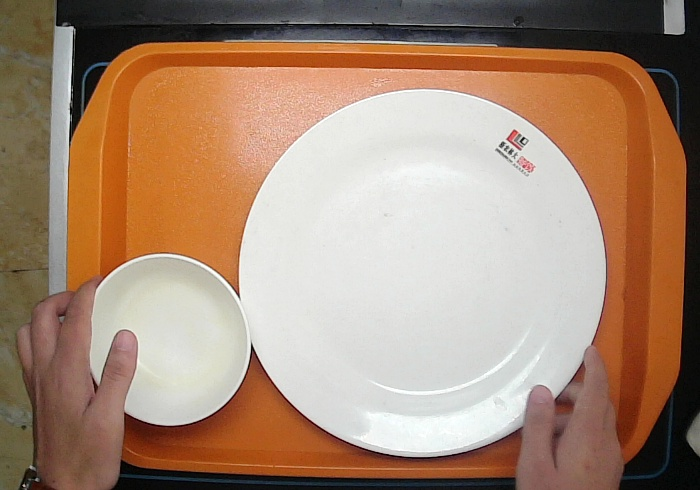ZNLD-Da_Yuan_Pan: (234, 78, 602, 452)
ZNLD-Fan_Wan: (86, 250, 253, 424)
